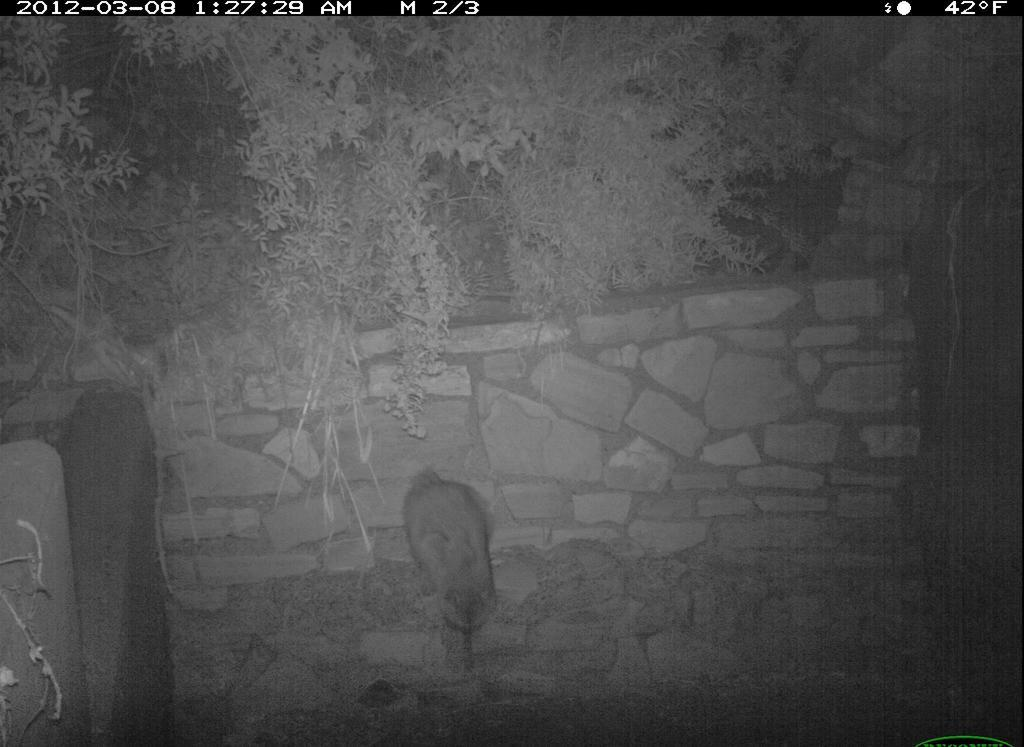raccoon: (392, 459, 518, 665)
